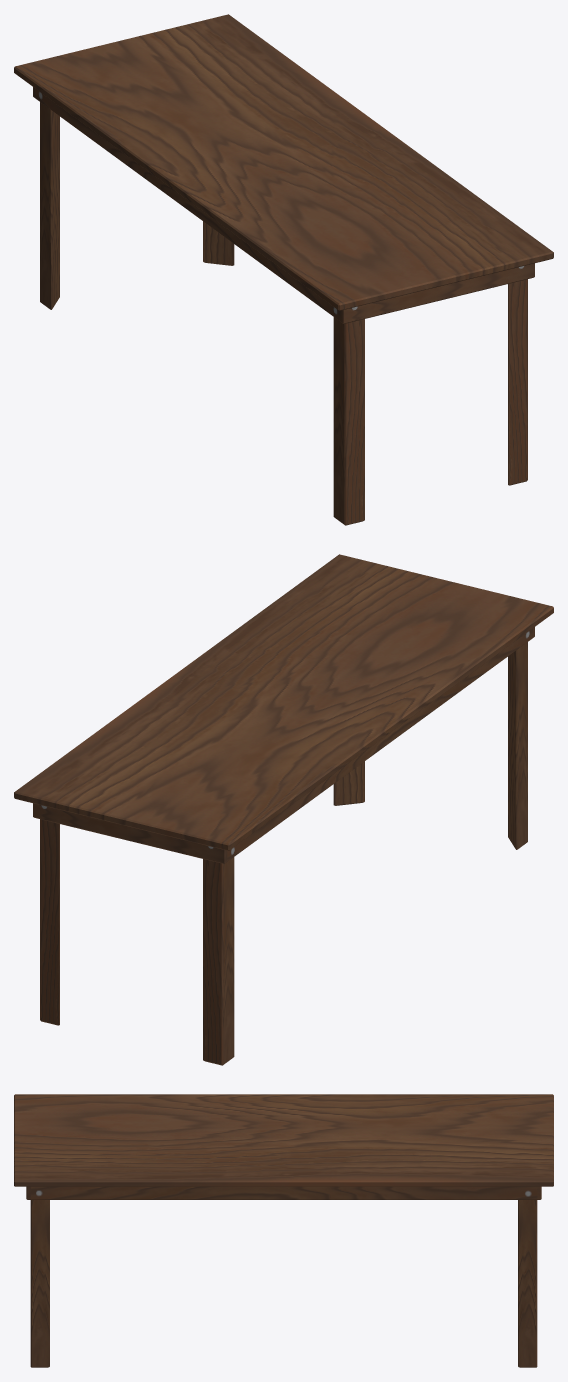
Rendered from Table6.glb.
3 views of the same model, one above another, from view 1: azimuth 30°, elevation 25°; view 2: azimuth 150°, elevation 25°; view 3: azimuth 270°, elevation 25° (orthographic). The views are drawn at different scales.
Parts seen in each view (by area): view 1: Cube.036; view 2: Cube.036; view 3: Cube.036.
Part boxes in pixels (x1=…): Cube.036: x1=14, y1=14, x2=553, y2=525; Cube.036: x1=14, y1=554, x2=553, y2=1065; Cube.036: x1=14, y1=1094, x2=553, y2=1367.
Size of the model in its own units: 0.7722 by 0.7973 by 2.02.
1 material, 1 textured.
